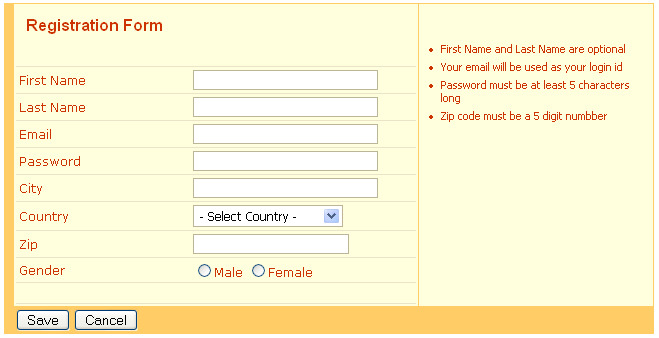_form_: (1, 1, 416, 338)
button: (75, 309, 142, 332), (14, 308, 71, 331)
field: (189, 121, 378, 146), (190, 68, 378, 93), (189, 175, 380, 199), (189, 95, 378, 119), (189, 149, 379, 172), (190, 230, 350, 256)
field_with_label: (18, 65, 381, 94), (19, 119, 380, 148), (19, 201, 346, 231), (19, 93, 381, 120), (19, 174, 381, 201), (19, 147, 380, 174), (20, 229, 352, 258)
radio: (194, 260, 212, 281), (251, 261, 265, 281)
radio_with_label: (248, 258, 312, 283), (191, 258, 243, 283)
select: (191, 203, 345, 229)
